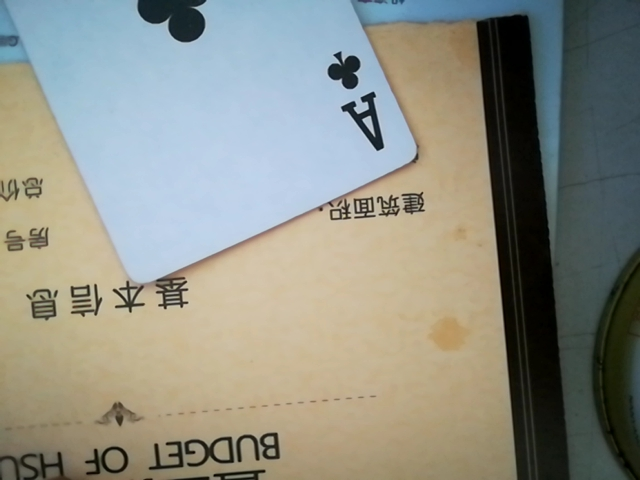mh a: (0, 2, 420, 285)
